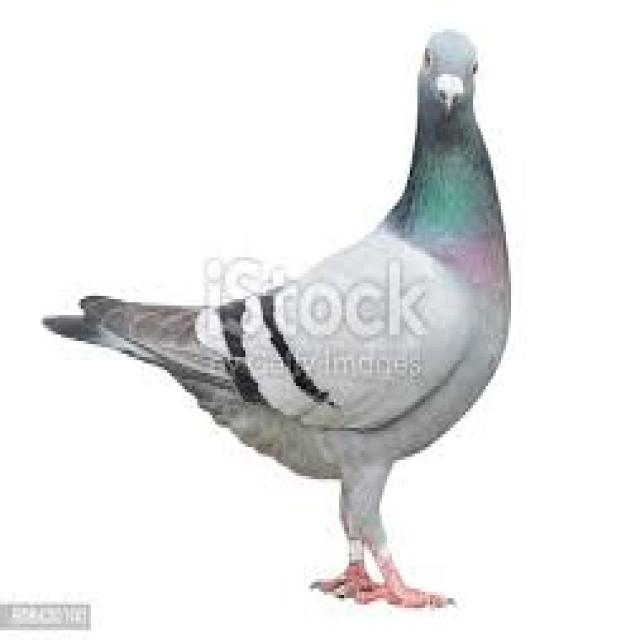pigeon: (39, 26, 522, 620)
